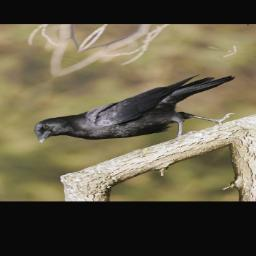Crow: (19, 49, 256, 176)
